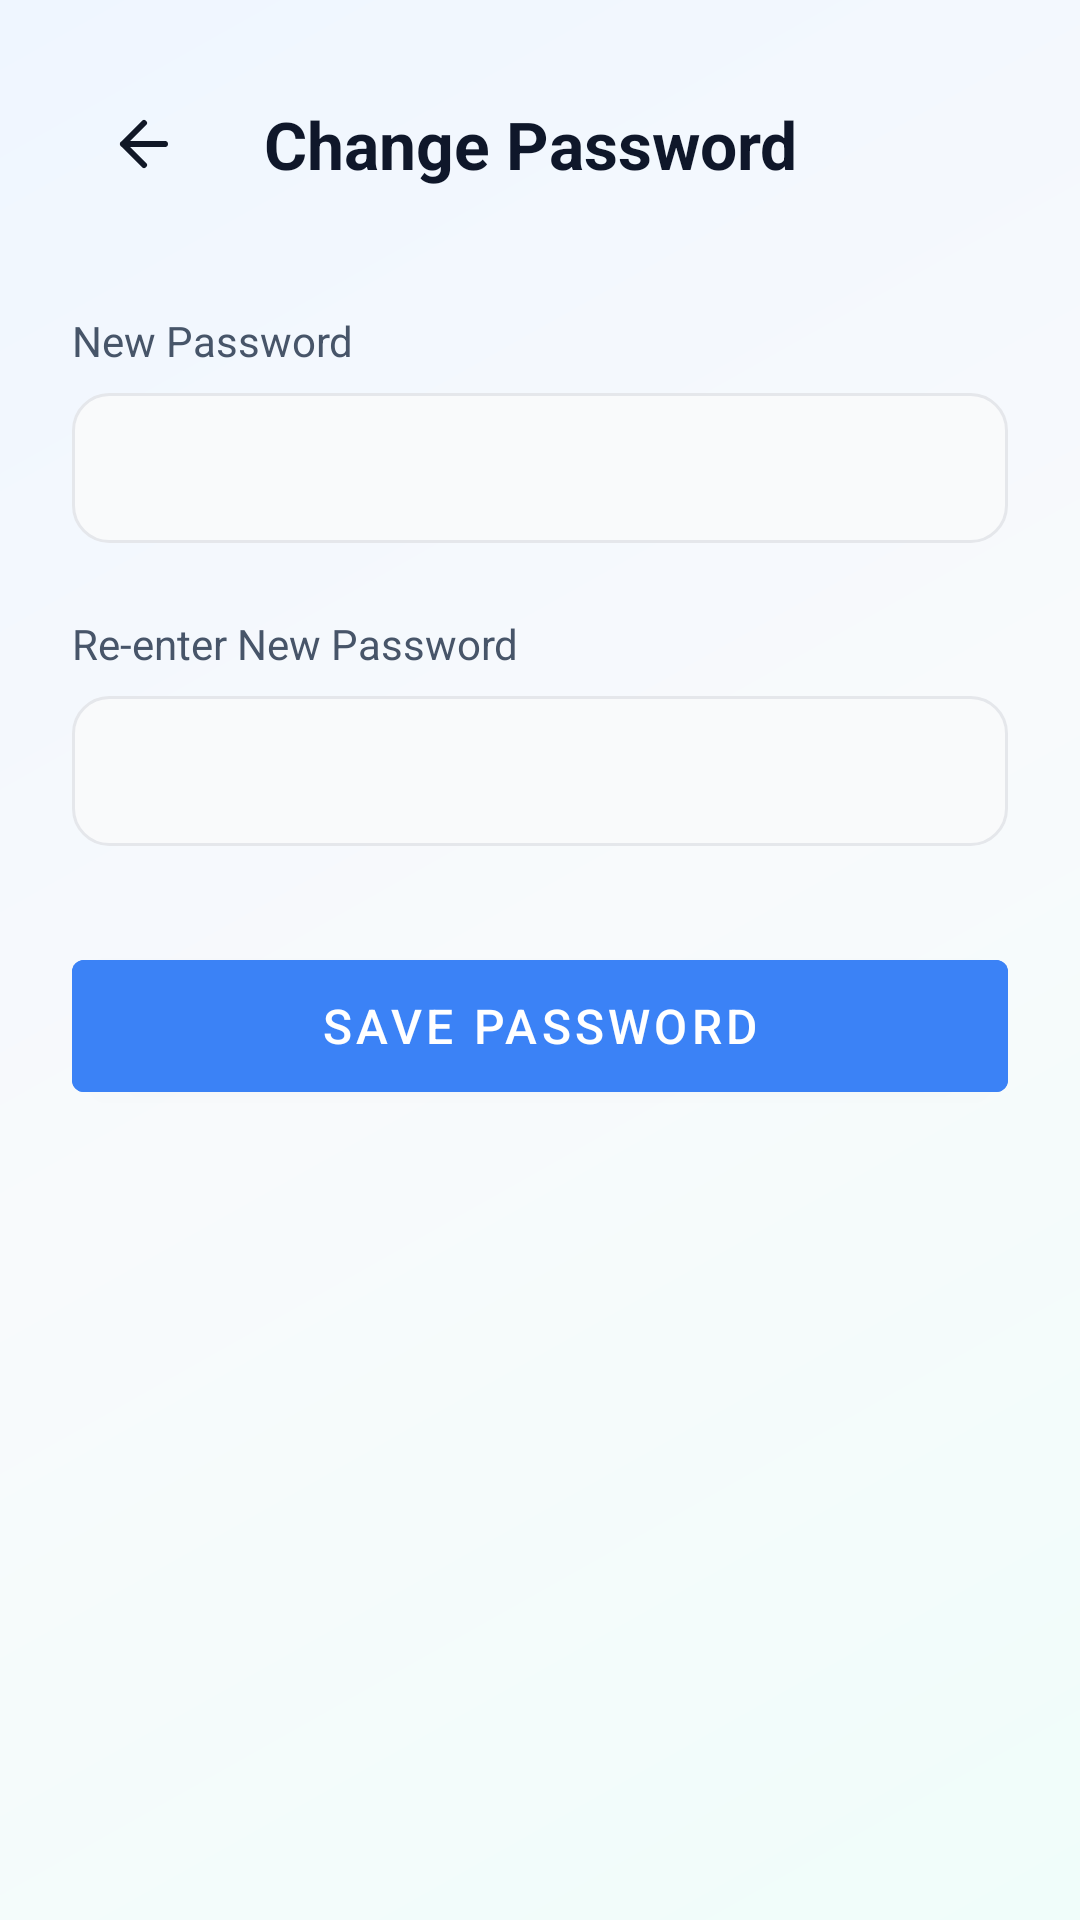

Icons on this 1080×1920 Android screen, each with the point to tap as (x,y):
Back: (144,144)
